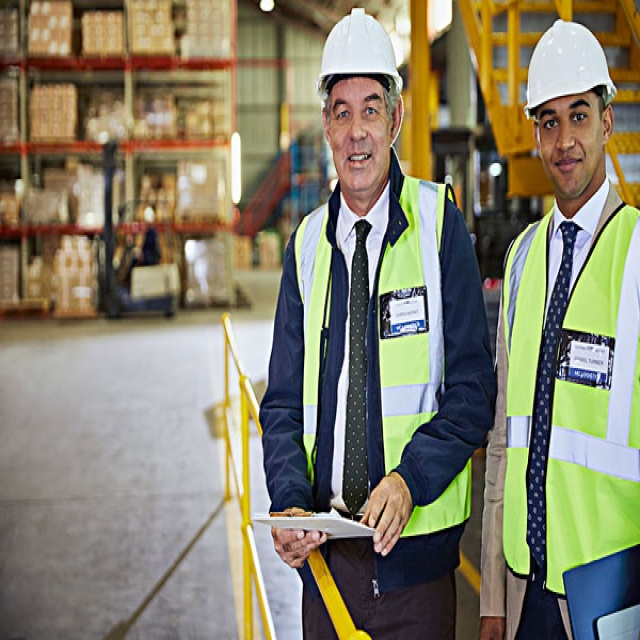Helmet: (304, 3, 417, 223), (516, 10, 626, 221)
Reflective vest: (286, 175, 478, 535), (489, 194, 640, 598)
